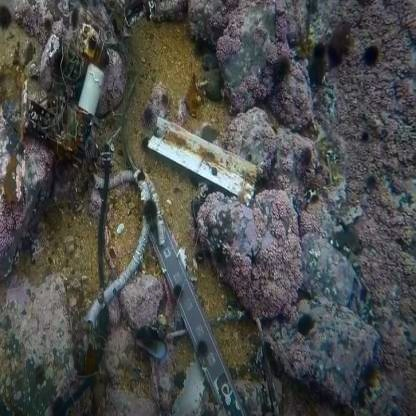electronics: (133, 171, 223, 405), (36, 39, 107, 172)
